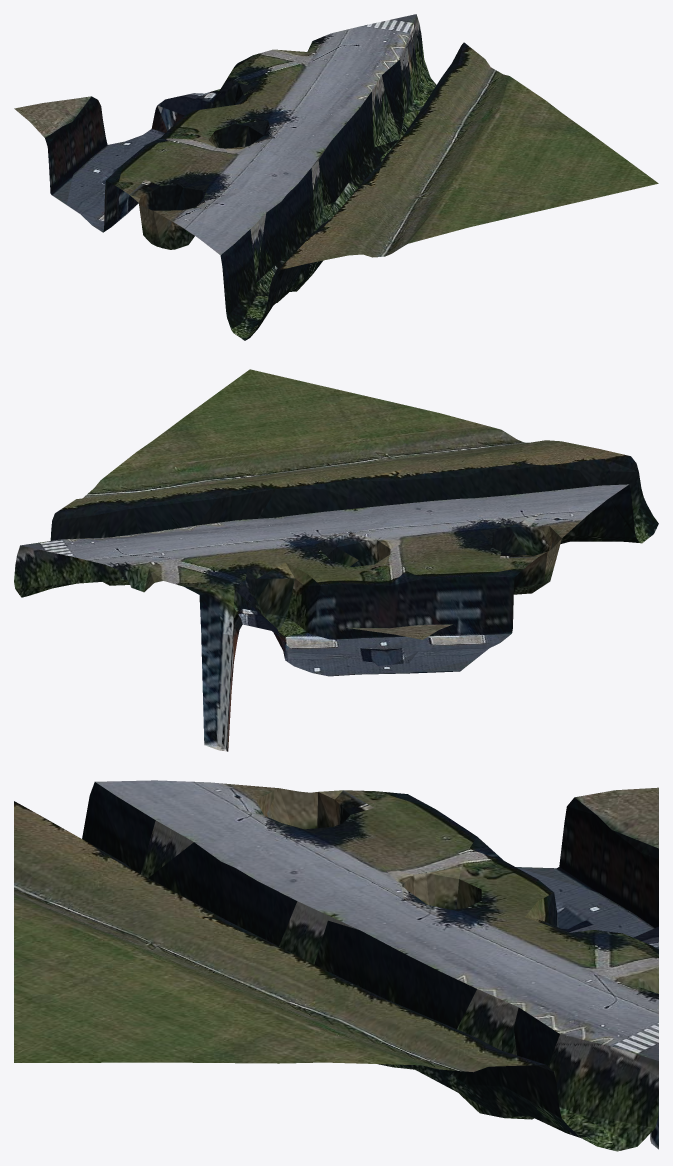
Rendered from map_15_8178_13787.dae.
3 renders of one model, top to bottom at view 1: azimuth 30°, elevation 25°; view 2: azimuth 150°, elevation 25°; view 3: azimuth 270°, elevation 25°, orthographic. The views are drawn at different scales.
Parts seen in each view (by area): view 1: Ter0; view 2: Ter0; view 3: Ter0.
Boxes of the visible parts, x1,y1,x2,y2 form: Ter0: (14,14,658,340); Ter0: (14,369,658,751); Ter0: (14,780,658,1151).
Size of the model in its own units: 63.88 by 63.88 by 24.7.
5 materials, 5 textured.
